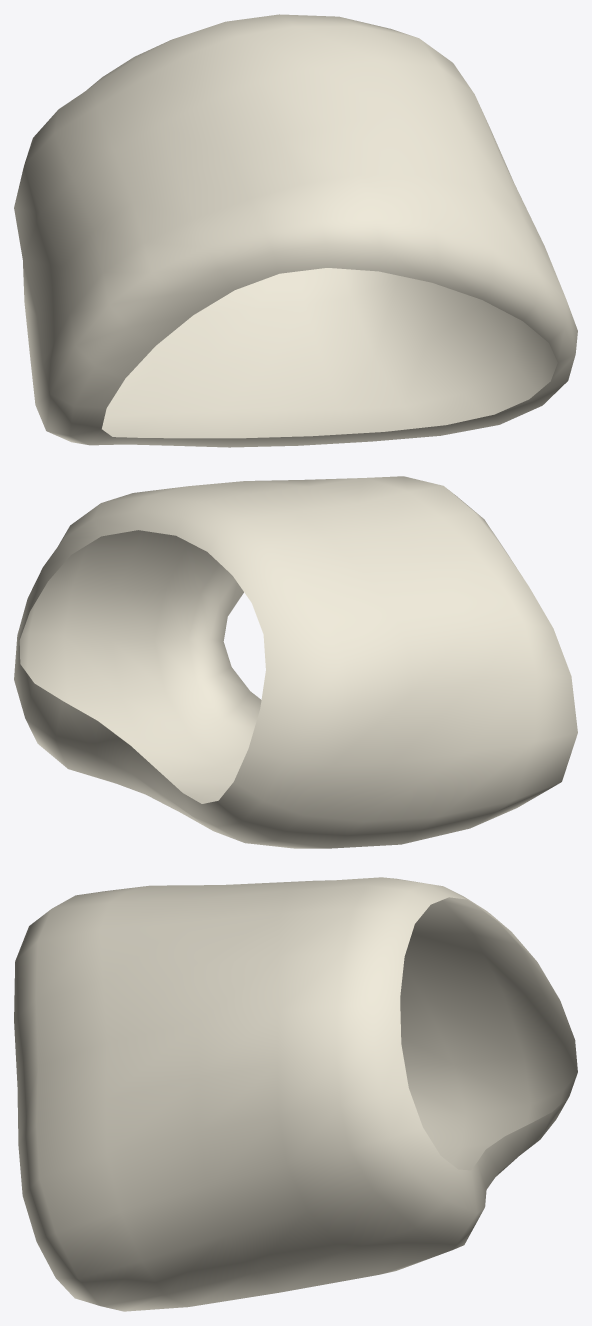
The picture shows the model from 3 angles, top to bottom: view 1: azimuth 30°, elevation 25°; view 2: azimuth 150°, elevation 25°; view 3: azimuth 270°, elevation 25°; orthographic projection. The views are drawn at different scales.
Visible parts, largest first — view 1: ZA_ab9c98622a197928; view 2: ZA_ab9c98622a197928; view 3: ZA_ab9c98622a197928.
Boxes of the visible parts, x1,y1,x2,y2 form: ZA_ab9c98622a197928: (14, 14, 577, 447); ZA_ab9c98622a197928: (14, 476, 577, 848); ZA_ab9c98622a197928: (14, 877, 577, 1311).
Size of the model in its own units: 0.0211 by 0.0139 by 0.0193.
